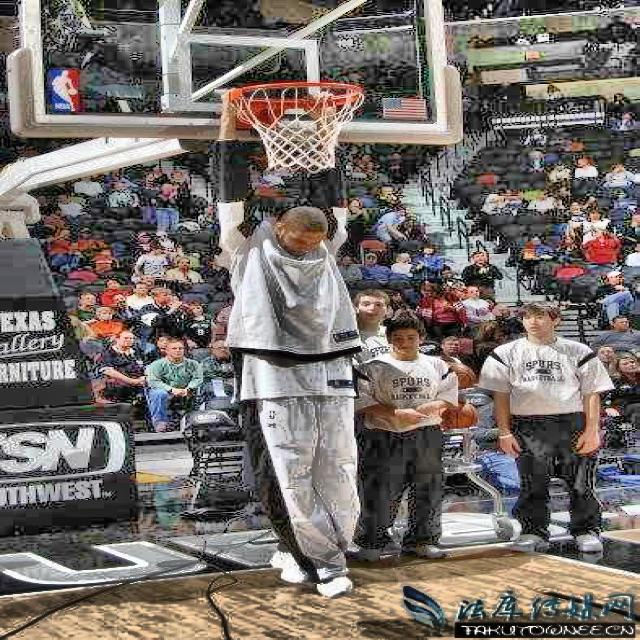rim: (230, 82, 368, 172)
